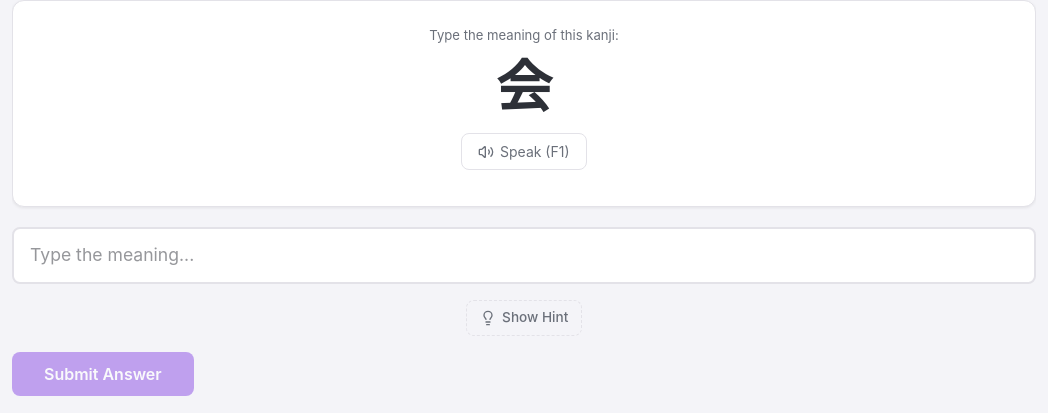
KanjiTypingQuiz — render › Submit button is enabled when input has text
In the field with placeholder "Type the meaning...": (524, 255) x1=12 y1=227 x2=1036 y2=284, type "meet"
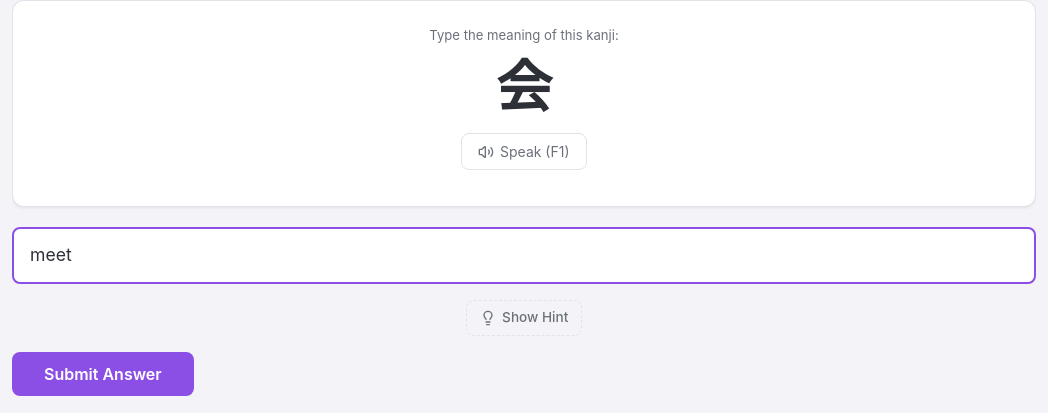
Now the button "Submit Answer" is enabled, box x1=12 y1=352 x2=194 y2=396
